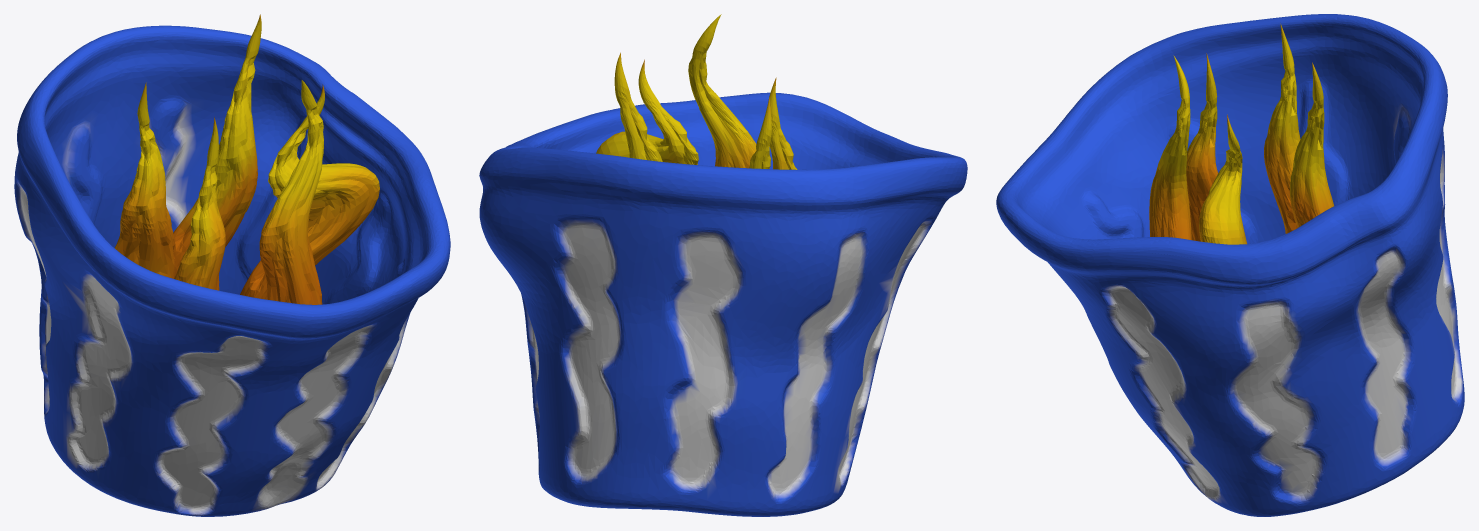
The model's file is Misc_05_pot.glb.
3 renders of one model, left to right at view 1: azimuth 30°, elevation 25°; view 2: azimuth 150°, elevation 25°; view 3: azimuth 270°, elevation 25°, orthographic. The views are drawn at different scales.
Visible parts, largest first — view 1: Misc_05_pot; view 2: Misc_05_pot; view 3: Misc_05_pot.
Boxes of the visible parts, x1,y1,x2,y2 form: Misc_05_pot: [14, 14, 450, 516]; Misc_05_pot: [479, 14, 967, 516]; Misc_05_pot: [996, 14, 1464, 516].
Bounding box in the file's own units: 3.27 × 3.59 × 3.49.
